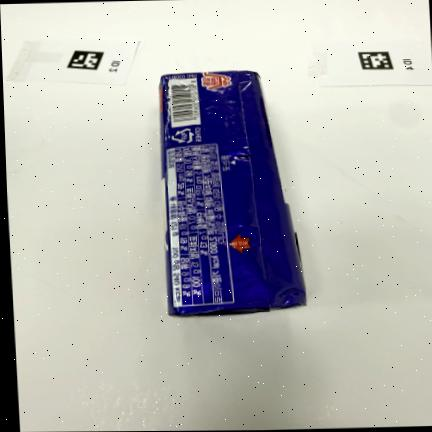cracker_ace: (159, 71, 306, 316)
